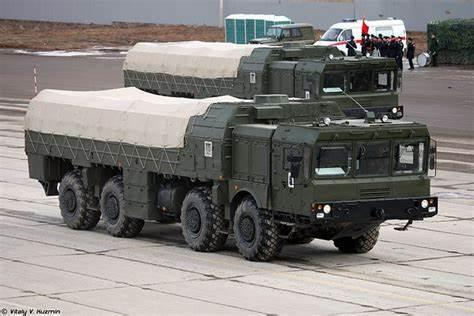truck: (21, 86, 440, 260), (121, 38, 406, 122)
